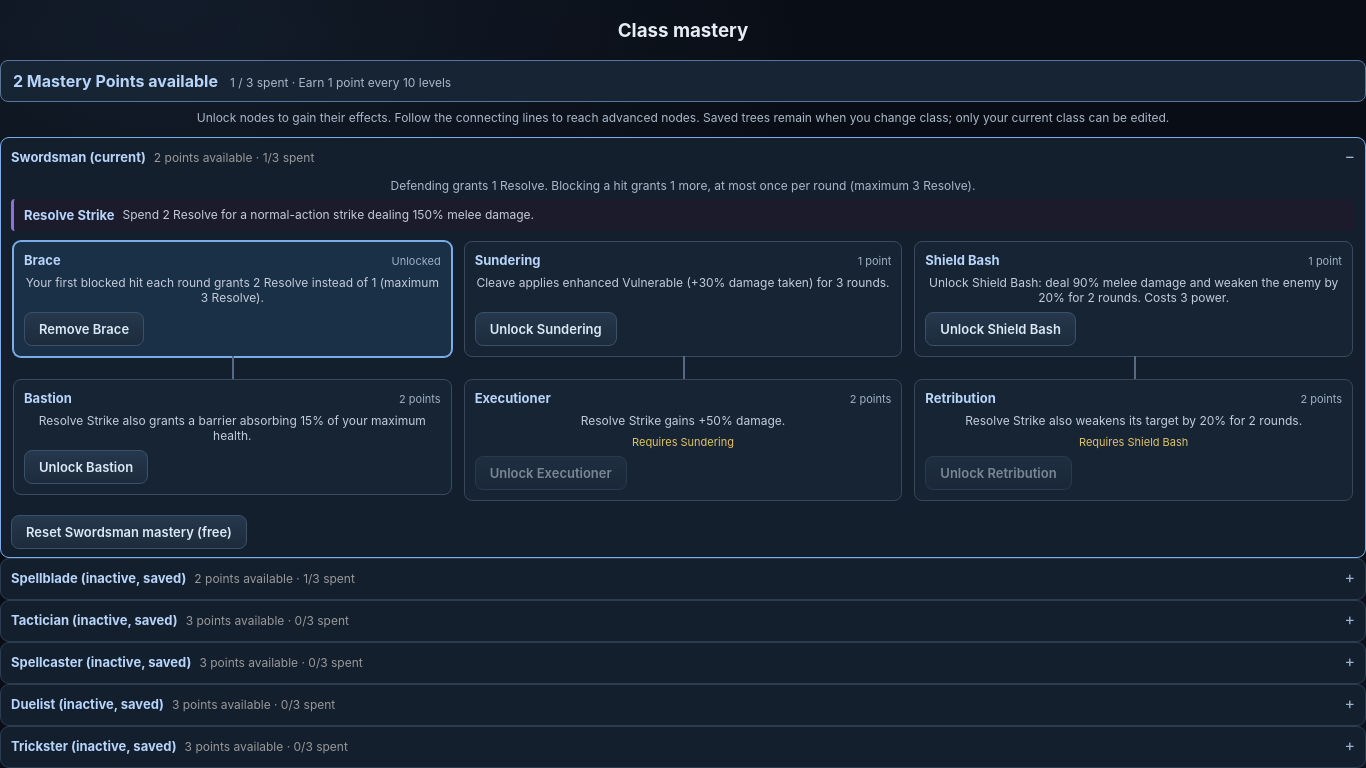
Scenario: save failures are visible and do not masquerade as success
What coordinates should you click on to do the following:
click the button "Unlock Shield Bash"
I would click on:
 (1001, 329)
Its box is [925,312,1076,346].
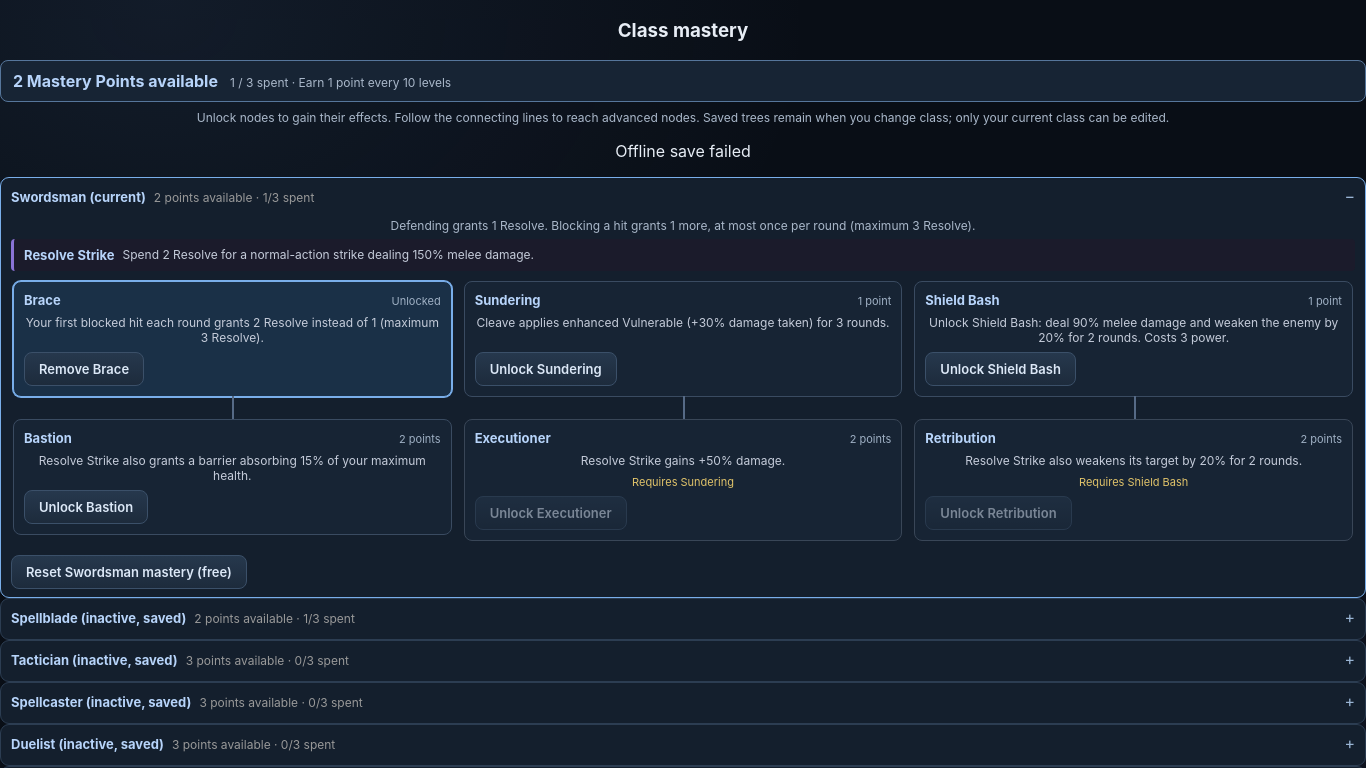
Check: the message "Offline save failed" is shown, box [615,141,751,161]
